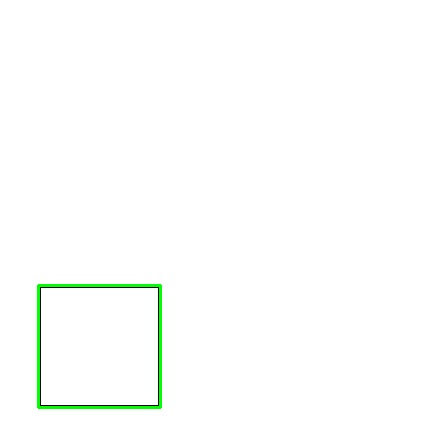line_segment: (37, 284, 162, 409)
